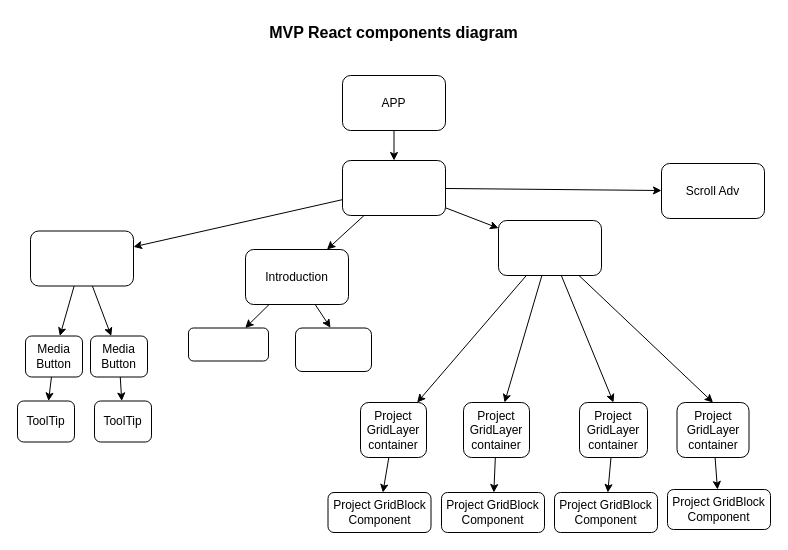
Image size: 788x550. Some labels were removed from this diagram. Each missing label, with the centre of its shape:
"Introduction Text" goes at (333,349).
"Main" goes at (394,188).
"Projects" goes at (550,248).
"Socila Media" goes at (82,258).
"Title" goes at (228,344).
